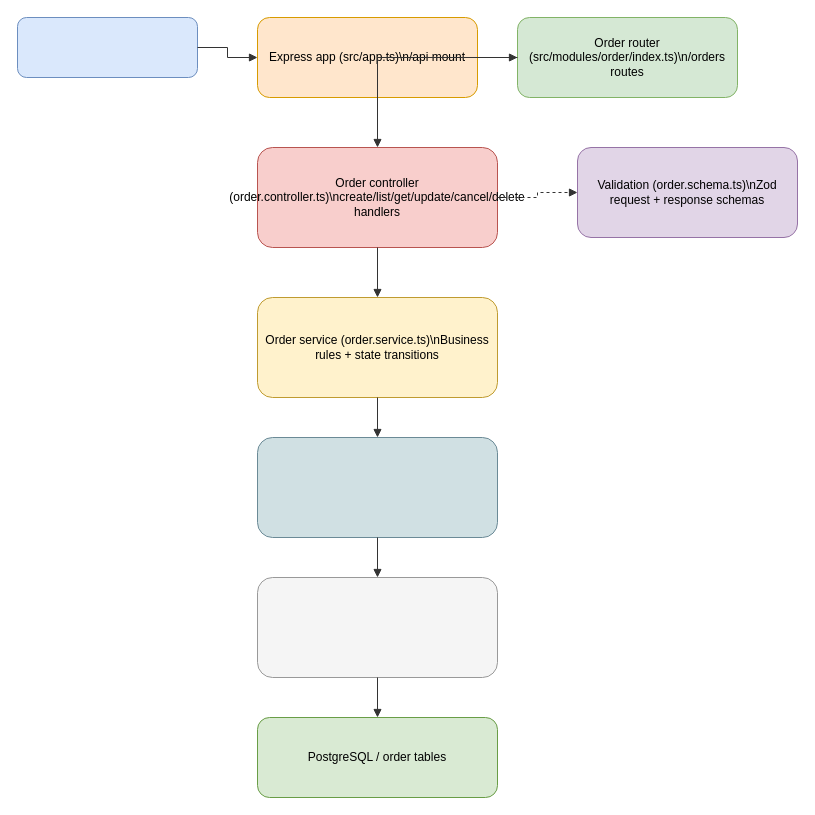
Image size: 815x815. Some labels were removed from this diagram. Here are the shapes that lost their labels. From the top down, the centre of each, then its label:
point (107, 47): Client / API Consumer
point (377, 487): Order repository (order.repository.ts)\nPrisma transactions + DB CRUD
point (377, 627): Prisma client (src/shared/db/prisma.ts)\nFail-fast guard for missing models
